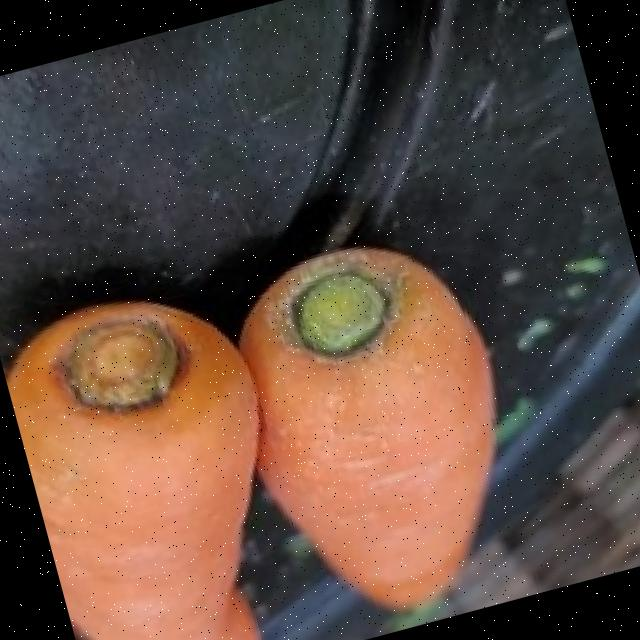carrot: (244, 251, 496, 610), (11, 305, 261, 640)
